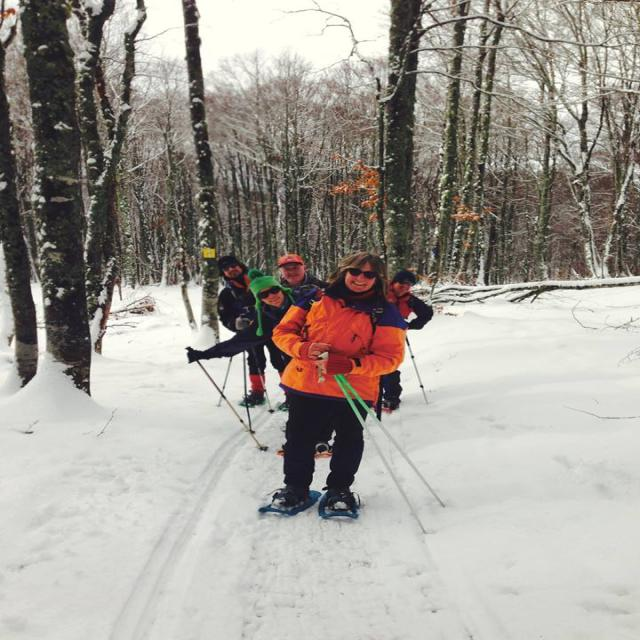body: (256, 248, 411, 522), (183, 267, 315, 381), (214, 253, 294, 412), (380, 268, 436, 415), (274, 253, 335, 289)
